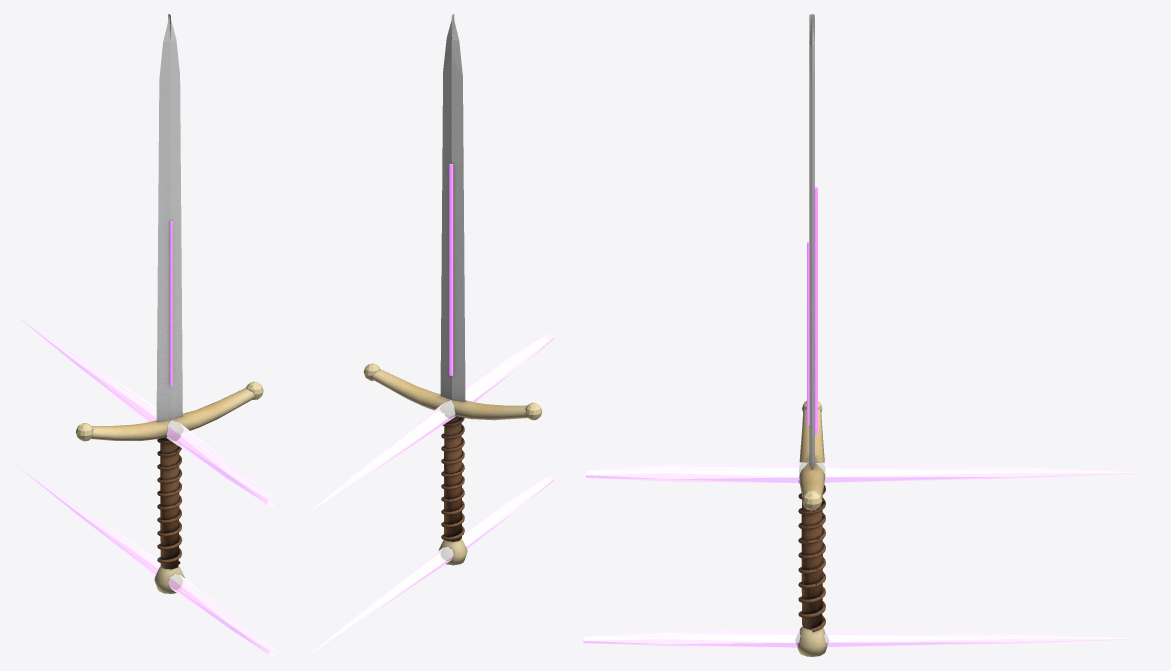
Rendered from arma_espada_longa_excelente.glb.
3 renders of one model, left to right at view 1: azimuth 30°, elevation 25°; view 2: azimuth 150°, elevation 25°; view 3: azimuth 270°, elevation 25°, orthographic. The views are drawn at different scales.
Visible parts, largest first — view 1: arma_espada_longa_excelente, guarda_gema, pomo_gema, lamina_runa; view 2: arma_espada_longa_excelente, guarda_gema, pomo_gema, lamina_runa2; view 3: arma_espada_longa_excelente, guarda_gema, pomo_gema, lamina_runa2.
Boxes of the visible parts, x1,y1,x2,y2 form: arma_espada_longa_excelente: [76, 14, 263, 593]; guarda_gema: [16, 315, 275, 506]; pomo_gema: [16, 465, 276, 656]; lamina_runa: [170, 221, 172, 386]; arma_espada_longa_excelente: [363, 14, 542, 565]; guarda_gema: [306, 332, 553, 514]; pomo_gema: [307, 474, 554, 656]; lamina_runa2: [449, 163, 453, 375]; arma_espada_longa_excelente: [795, 14, 828, 656]; guarda_gema: [586, 462, 1154, 483]; pomo_gema: [583, 630, 1152, 647]; lamina_runa2: [814, 187, 817, 434].
Size of the model in its own units: 0.416 by 1.24 by 1.
Materials: 5 (1 with a texture image).
